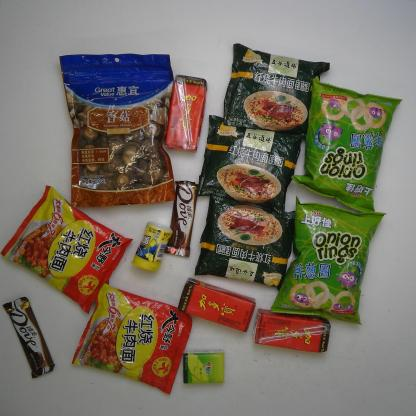Chocolate: (2, 296, 56, 379), (164, 179, 198, 258)
Dried Food: (59, 53, 176, 208)
Drink: (178, 277, 257, 333), (252, 308, 331, 352), (166, 74, 207, 152)
Gum: (130, 221, 173, 273)
Instant Noodles: (0, 185, 133, 315), (70, 284, 193, 396), (196, 114, 307, 217), (194, 193, 298, 292), (223, 42, 330, 138)
Puffed Food: (271, 194, 387, 326), (292, 76, 402, 214)
Tissue: (183, 349, 225, 384)
